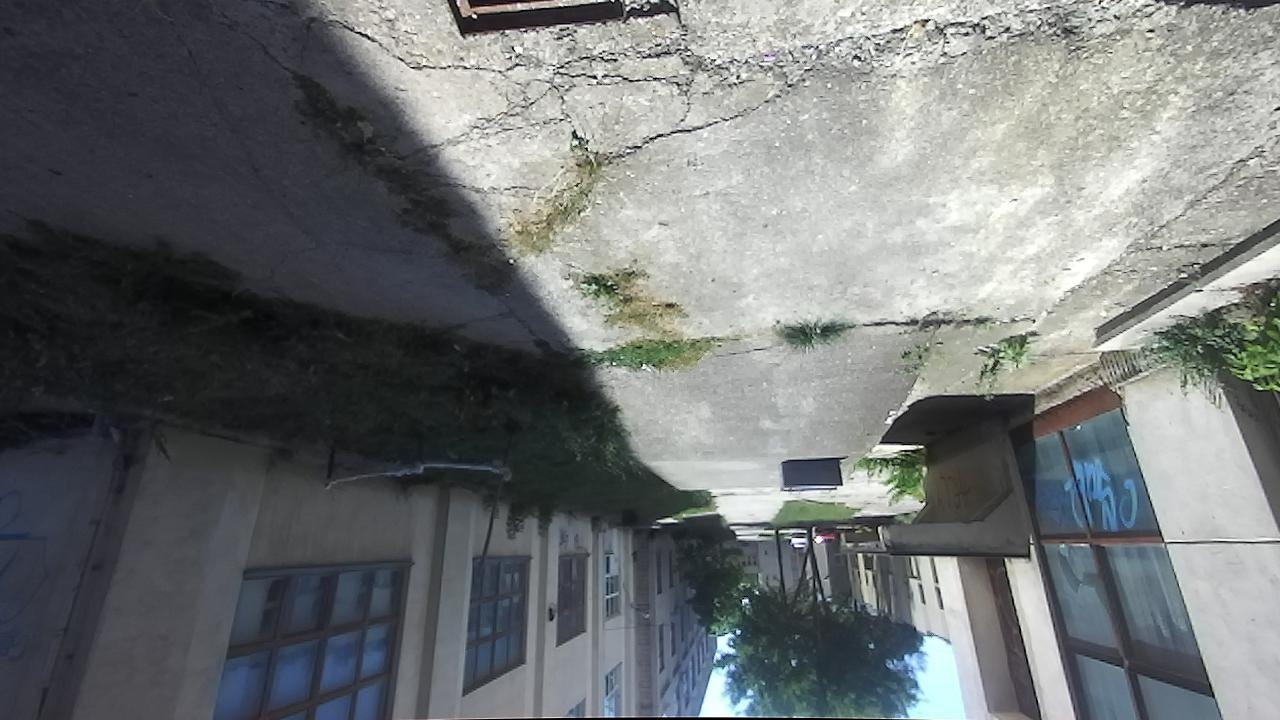drain: (444, 1, 629, 45)
